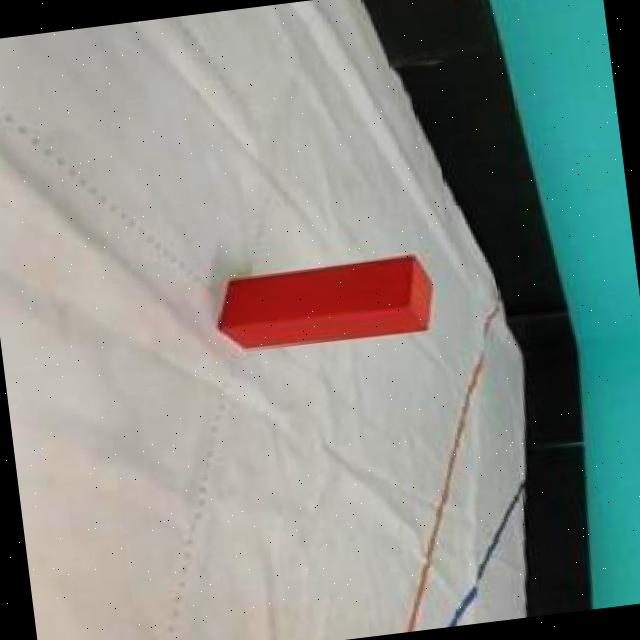redbox: (212, 248, 438, 354)
